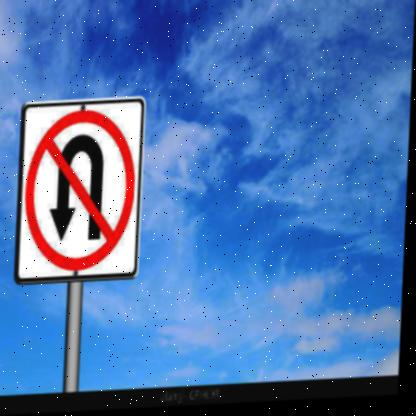No U-turn: (17, 101, 145, 286)
